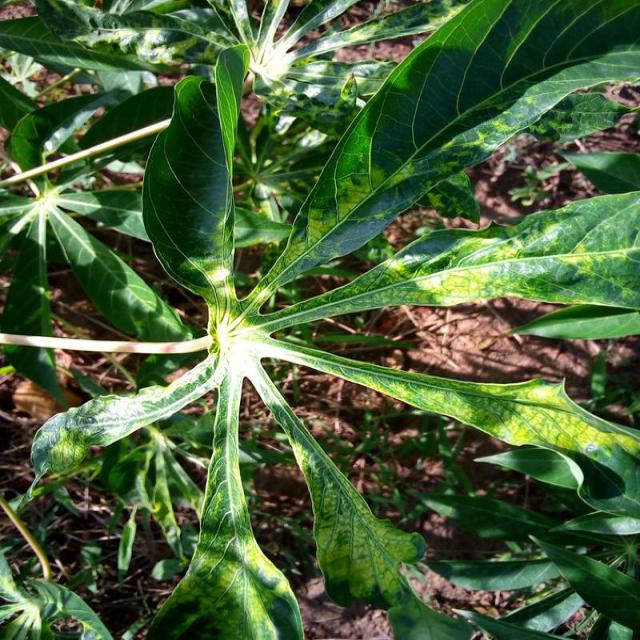cassava leaf: (20, 4, 638, 637), (245, 0, 638, 308)
